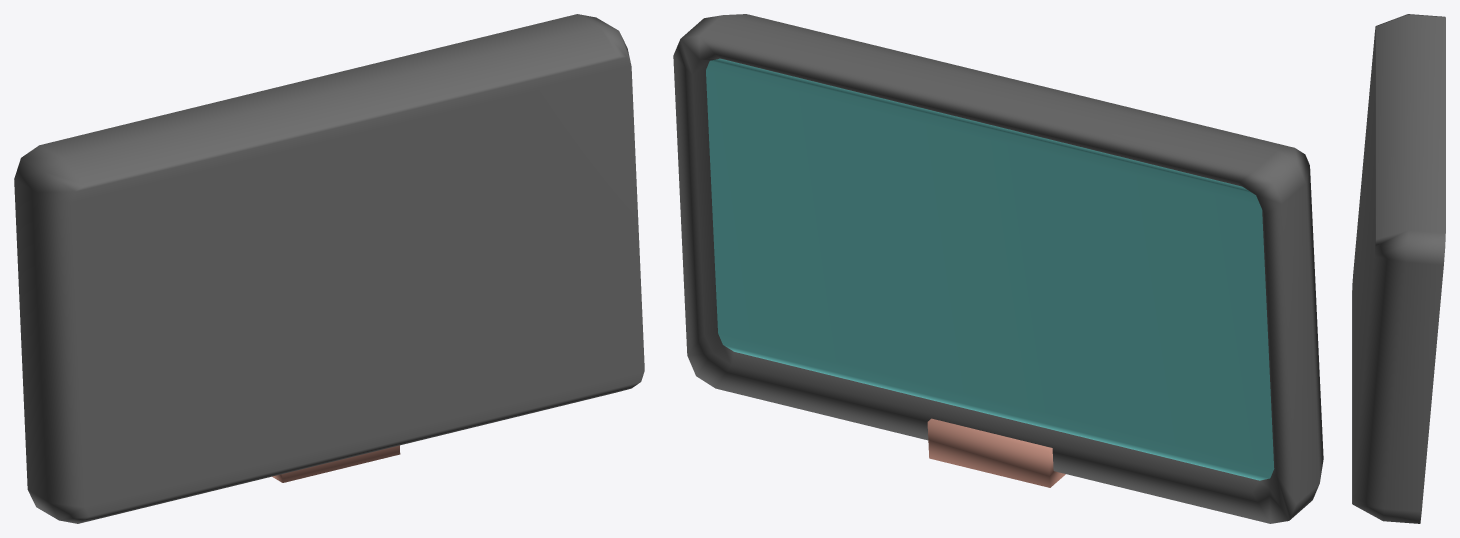
3 views of the same model, side by side, from view 1: azimuth 30°, elevation 25°; view 2: azimuth 150°, elevation 25°; view 3: azimuth 270°, elevation 25° (orthographic). The views are drawn at different scales.
Visible parts, largest first — view 1: mesh_tv_01; view 2: mesh_tv_01; view 3: mesh_tv_01.
Part boxes in pixels (left/top/right/bottom): mesh_tv_01: left=14, top=14, right=644, bottom=523; mesh_tv_01: left=673, top=14, right=1323, bottom=523; mesh_tv_01: left=1352, top=14, right=1445, bottom=523.
Size of the model in its own units: 1.71 by 1.03 by 0.2868.
